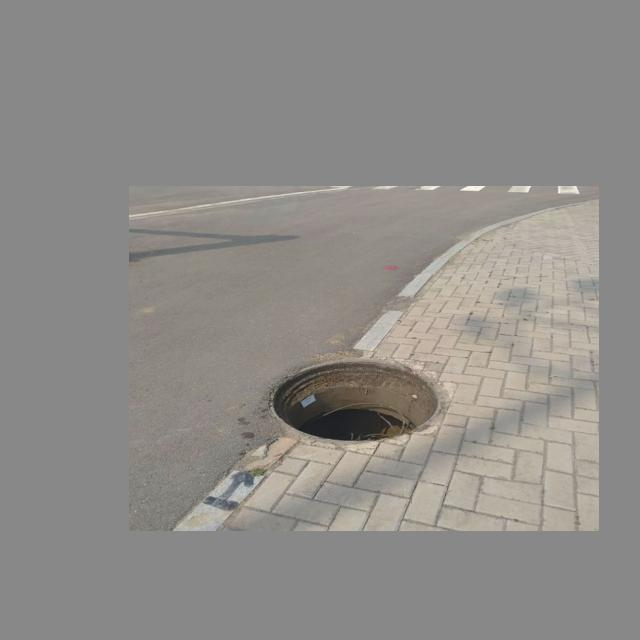lose: (270, 358, 444, 442)
